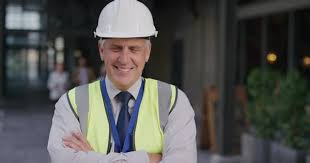Person_wearing_helmet: (87, 0, 166, 54)
